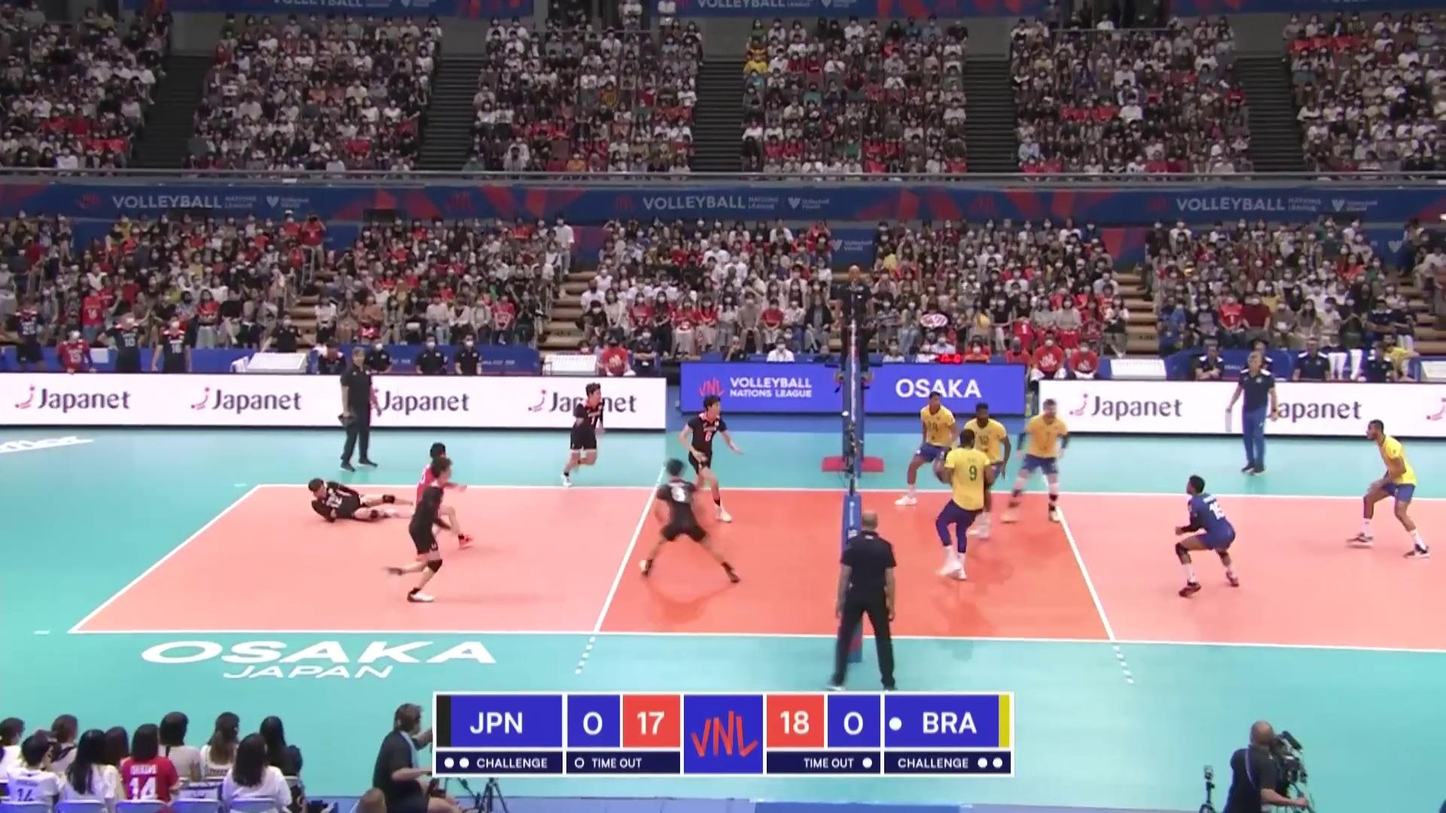player: (638, 458, 739, 583), (1348, 418, 1434, 561), (389, 460, 452, 602), (1172, 475, 1246, 595), (1003, 397, 1072, 523), (935, 429, 992, 581), (678, 395, 739, 525), (895, 390, 960, 508), (959, 401, 1009, 537), (303, 473, 422, 528), (416, 442, 476, 550), (559, 382, 605, 487)
refree: (834, 510, 898, 693), (832, 264, 873, 394)
